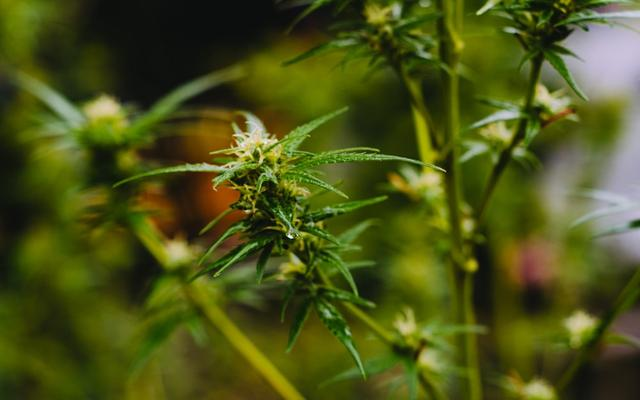Marijuana Plant: (0, 0, 625, 400)
